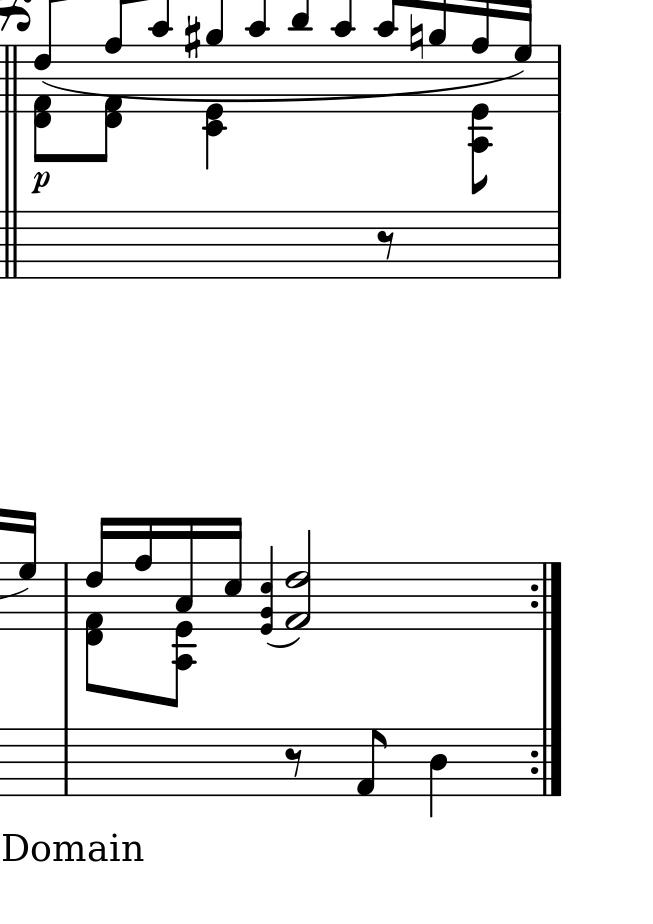16_5: (223, 515, 244, 631)
16_8: (134, 516, 156, 631)
2_1_6: (284, 530, 313, 631)
4_4: (428, 727, 449, 819)
8_1: (354, 726, 389, 798)
Natural: (407, 12, 425, 62)
Rests8: (375, 228, 398, 261), (283, 746, 305, 778)
RightRepeatSign: (528, 561, 566, 630), (531, 729, 566, 796)
Sharp: (183, 14, 202, 62)
Single_barline: (1, 212, 20, 279), (551, 46, 567, 112), (551, 212, 567, 276), (59, 564, 74, 630), (59, 729, 73, 794)
Slur: (38, 71, 526, 103), (266, 635, 300, 648)
p: (30, 169, 52, 197)
